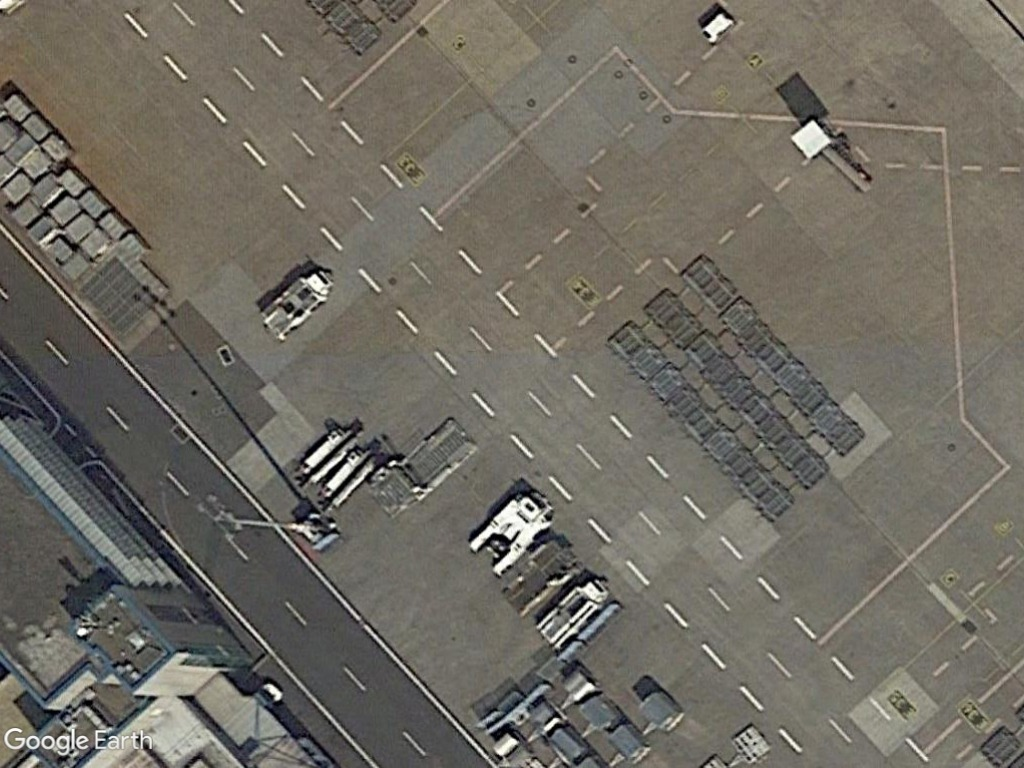pushbacktruck: (466, 492, 557, 582)
